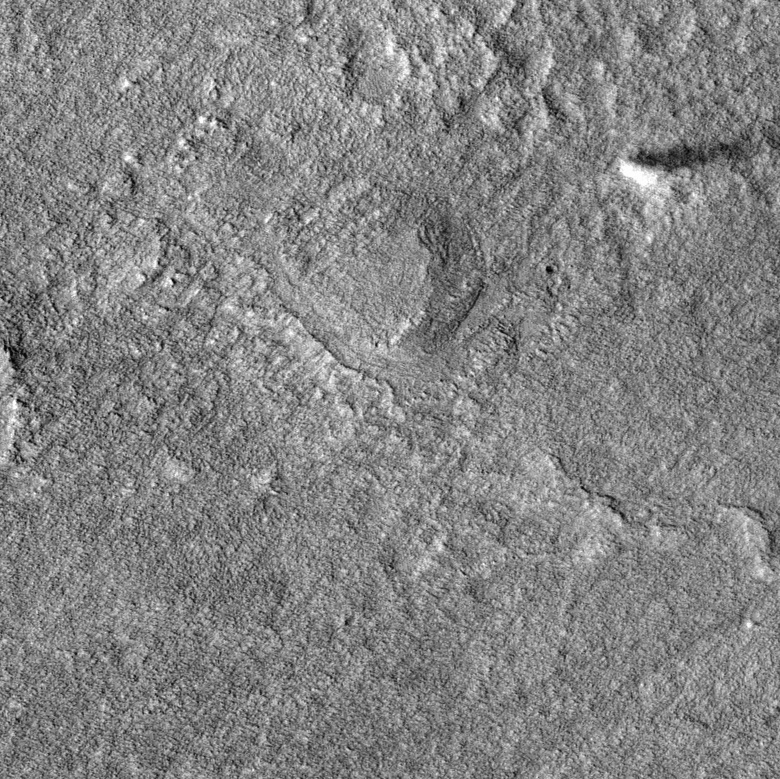dust_devil: (616, 128, 766, 191)
